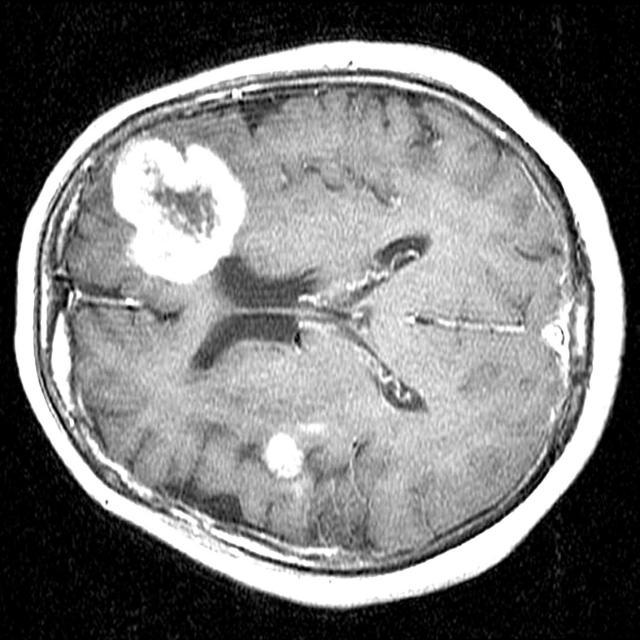tumor: (111, 135, 248, 286)
